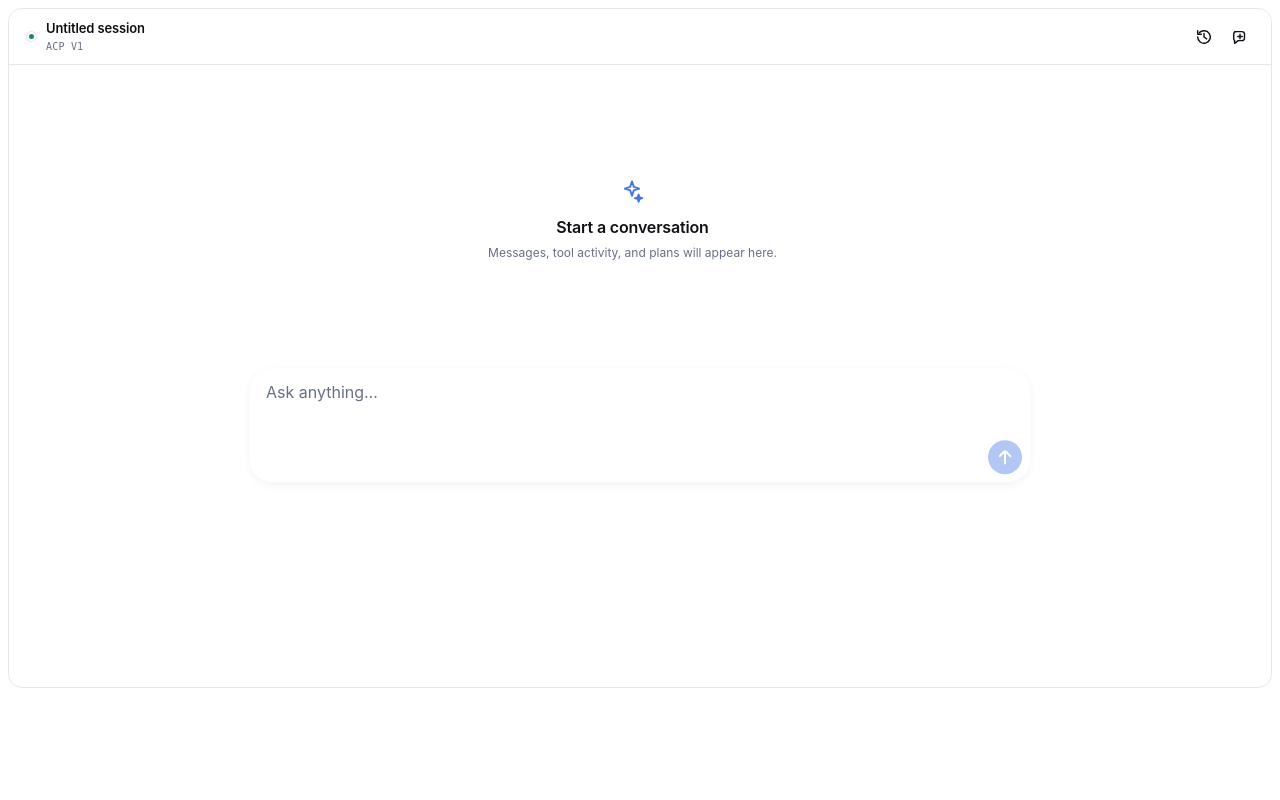
Chat composition › keeps the drawer open and reports a session deletion failure
This screenshot has width=1280, height=800.
What coordinates should you click on to do the following:
click the 1st button named "Sessions"
I would click on:
 (1204, 36)
Its box is [1187,20,1221,54].
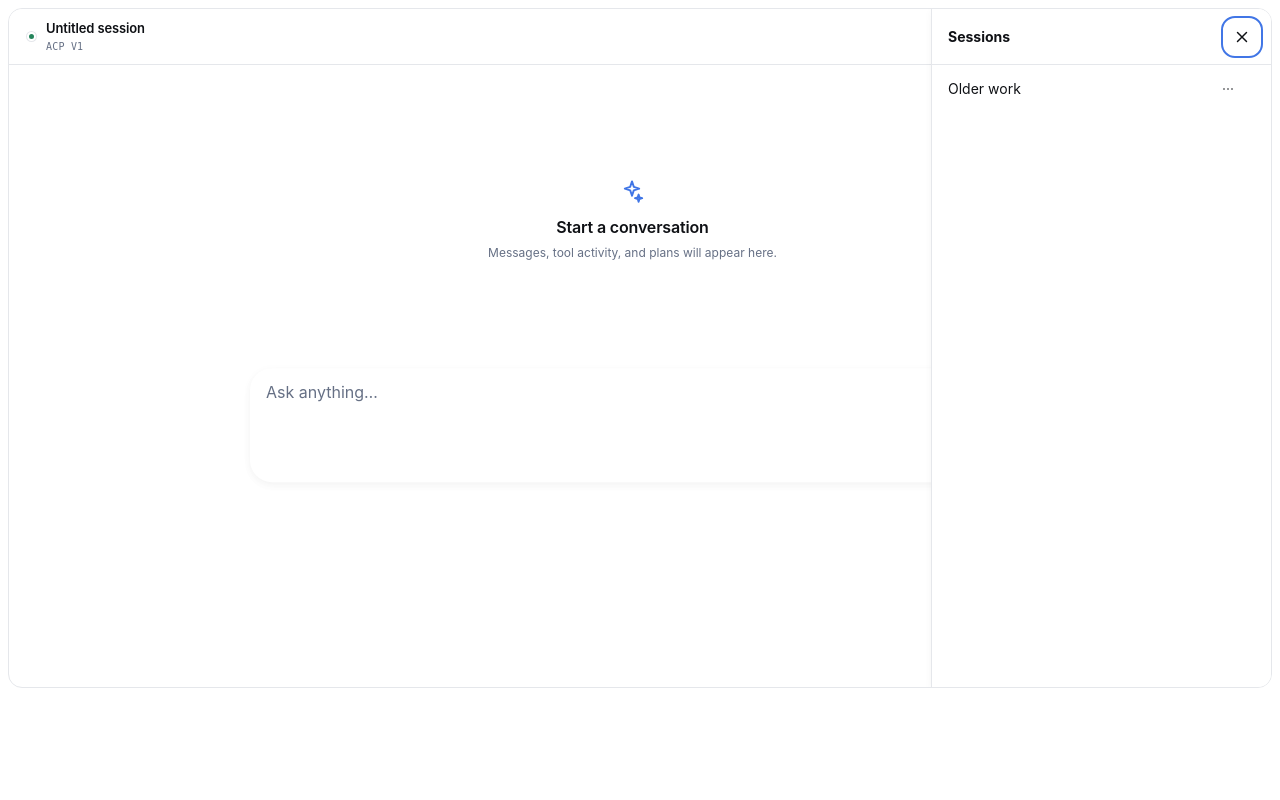
What coordinates should you click on to do the following:
click the button named "Actions for Older work"
I would click on:
 (1228, 89)
Its box is [1212,73,1244,105].
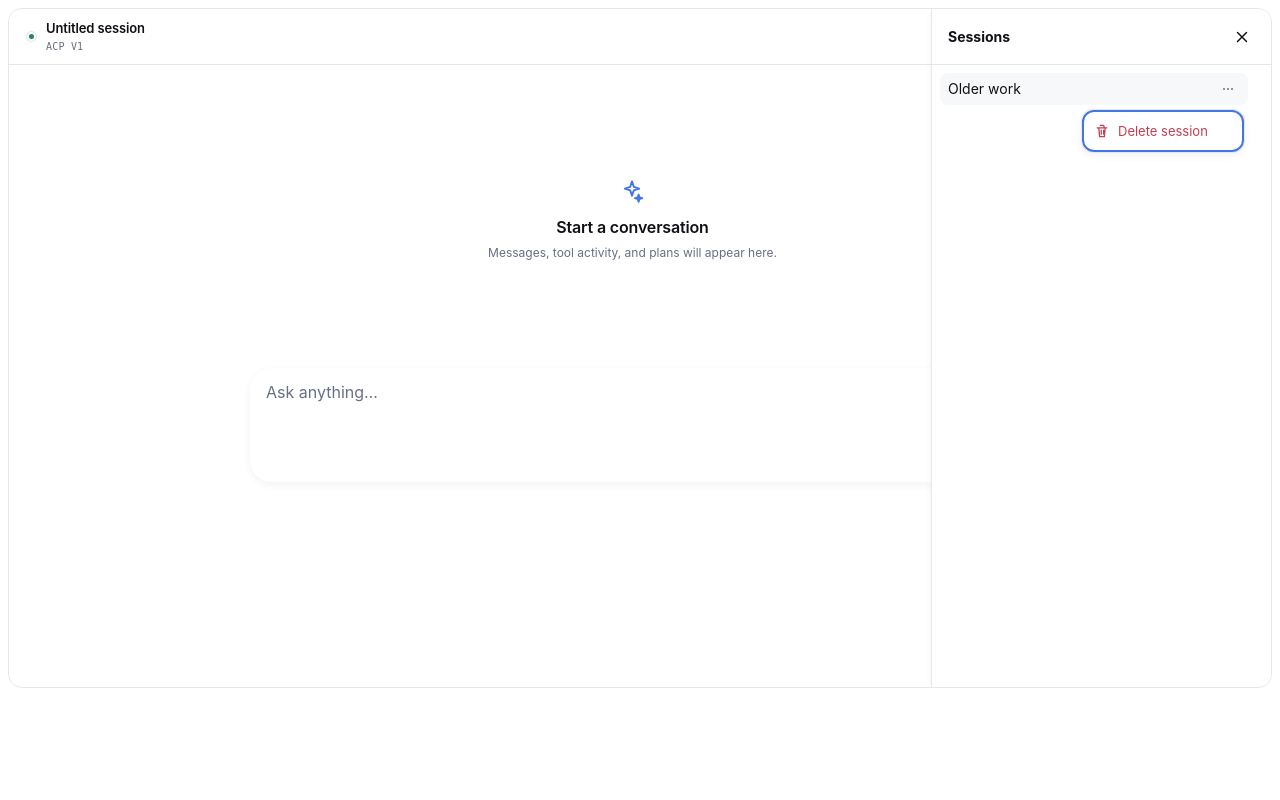
What coordinates should you click on to do the following:
click the menu item "Delete session"
I would click on:
 (1163, 131)
Its box is [1086,114,1240,148].
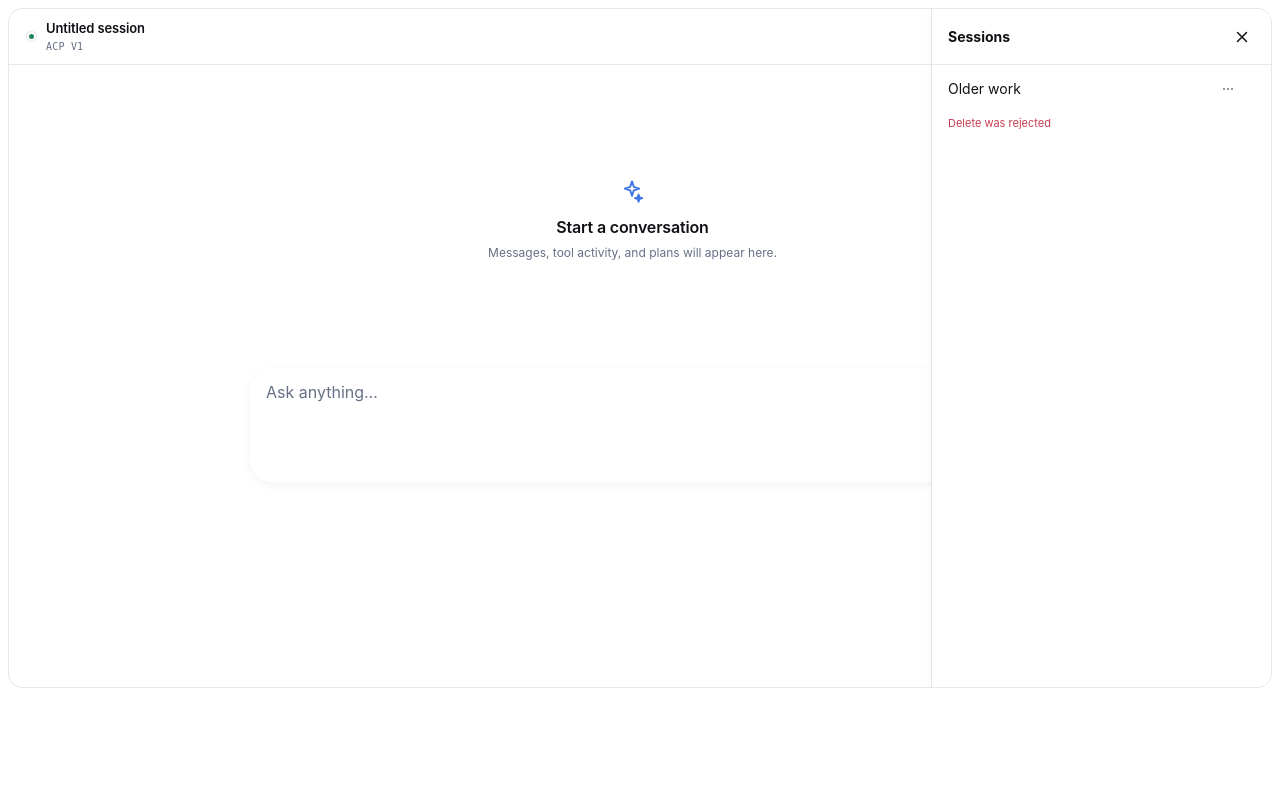
Expected: the dialog is shown, [931,9,1271,687]
Expected: the message reads "Delete was rejected", [948,116,1051,130]
